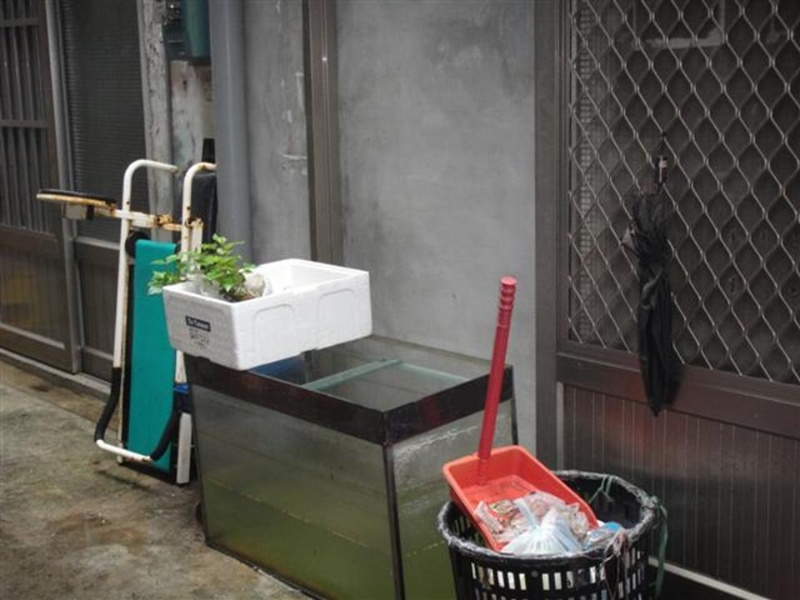aquarium: (179, 337, 524, 600)
styrofoam: (159, 256, 380, 374)
